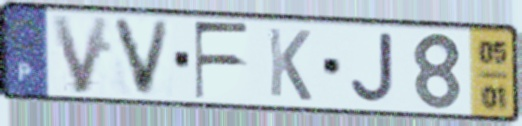8: (410, 30, 465, 112)
F: (191, 20, 253, 102)
J: (347, 31, 395, 107)
K: (265, 25, 314, 104)
V: (108, 15, 175, 99), (47, 13, 114, 97)
